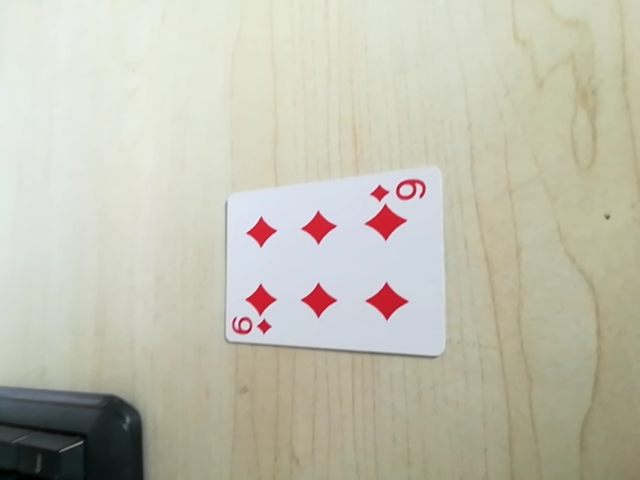fk 6: (367, 172, 433, 206), (227, 313, 276, 340)
